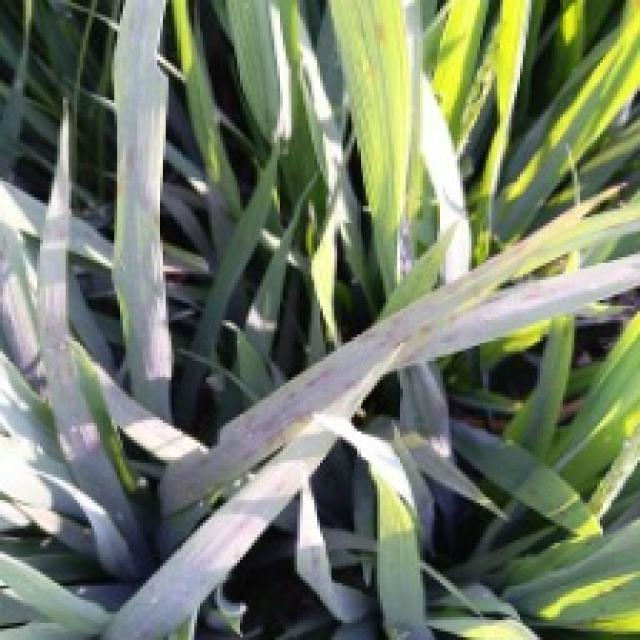Rice___Brown_Spot: (160, 180, 622, 521), (32, 97, 150, 578), (110, 0, 172, 427)
